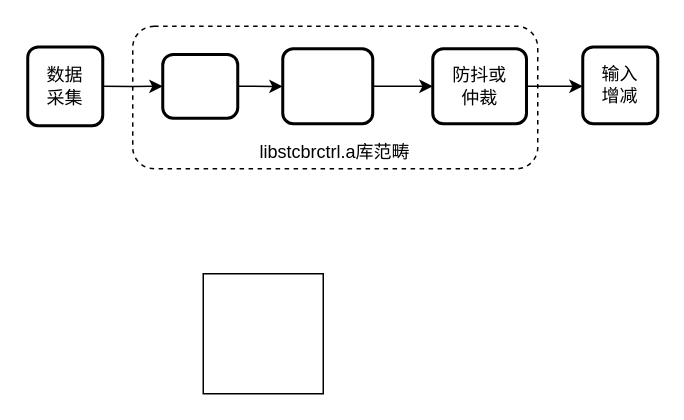
This 684x420 diagram has some shape labels left out. The centre of each missing label's shape, as x and y in pixels:
归一化 处理: (x=199, y=85)
算法 分析: (x=327, y=85)
